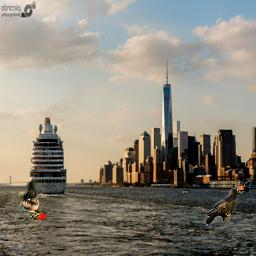Crow: (205, 187, 242, 227)
Woodpecker: (19, 181, 46, 221)
